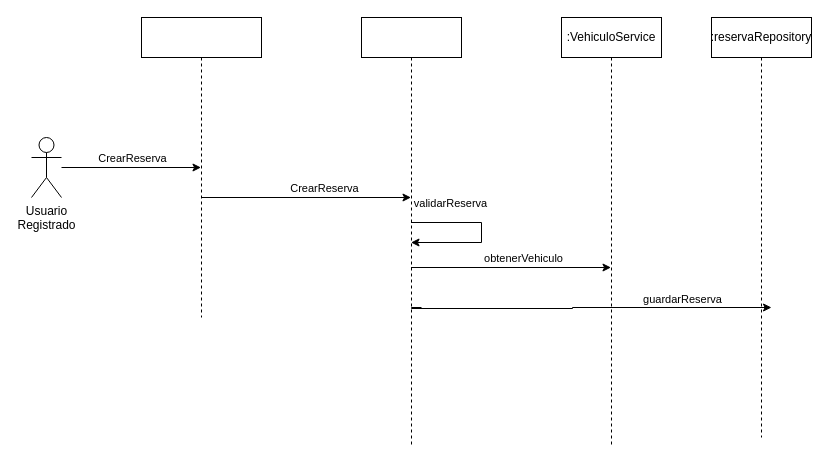
The diagram is 829 pixels wide and 465 high, and some of its shapes have lost their labels. Here are the shapes that lost their labels. From the top down, the box of each, then its label:
(140, 16, 262, 318): :ReservaController
(360, 16, 462, 448): :ReservaService
